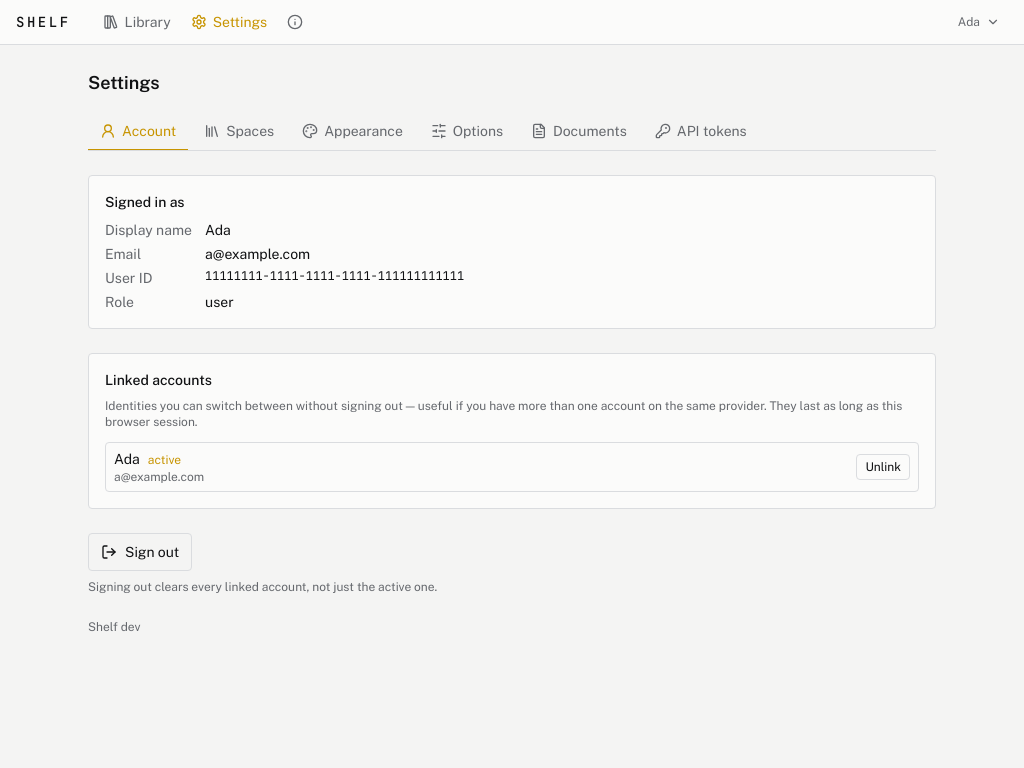
Scenario: navigation › switches tabs on click
Click the link "Appearance". click: click(352, 131)
box: [302, 123, 403, 139]
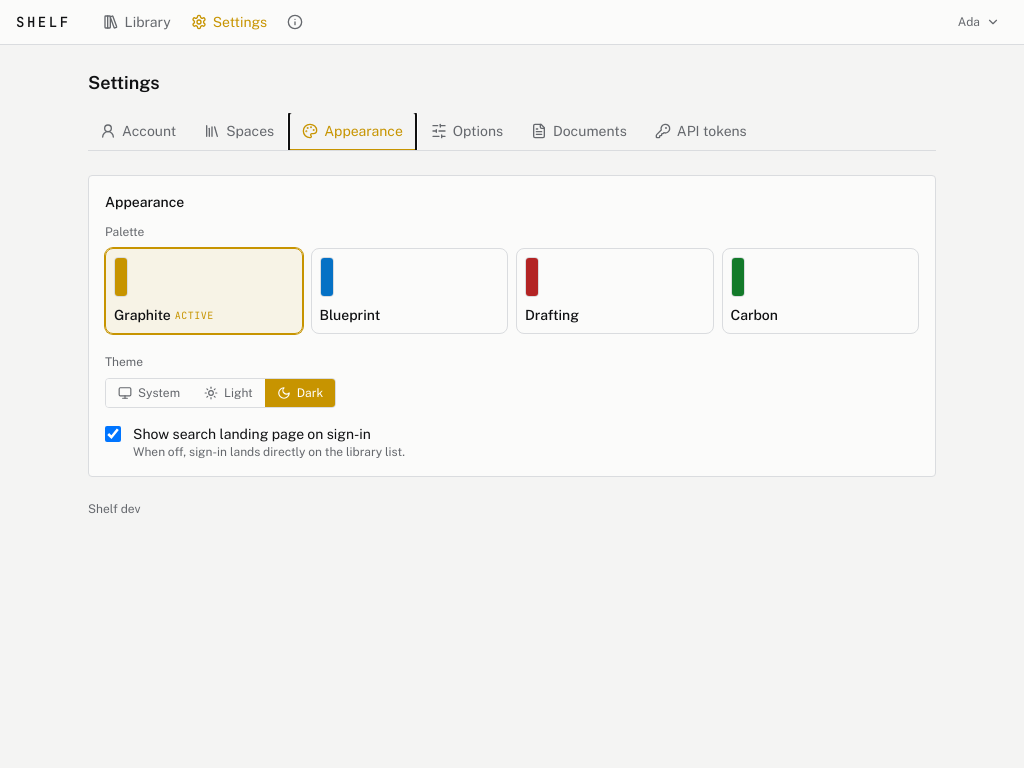
Now the element named "Theme" is shown, box [105, 378, 336, 408]
Now the heading "Signed in as" is gone
